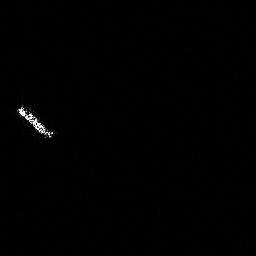ship: (17, 106, 54, 138)
